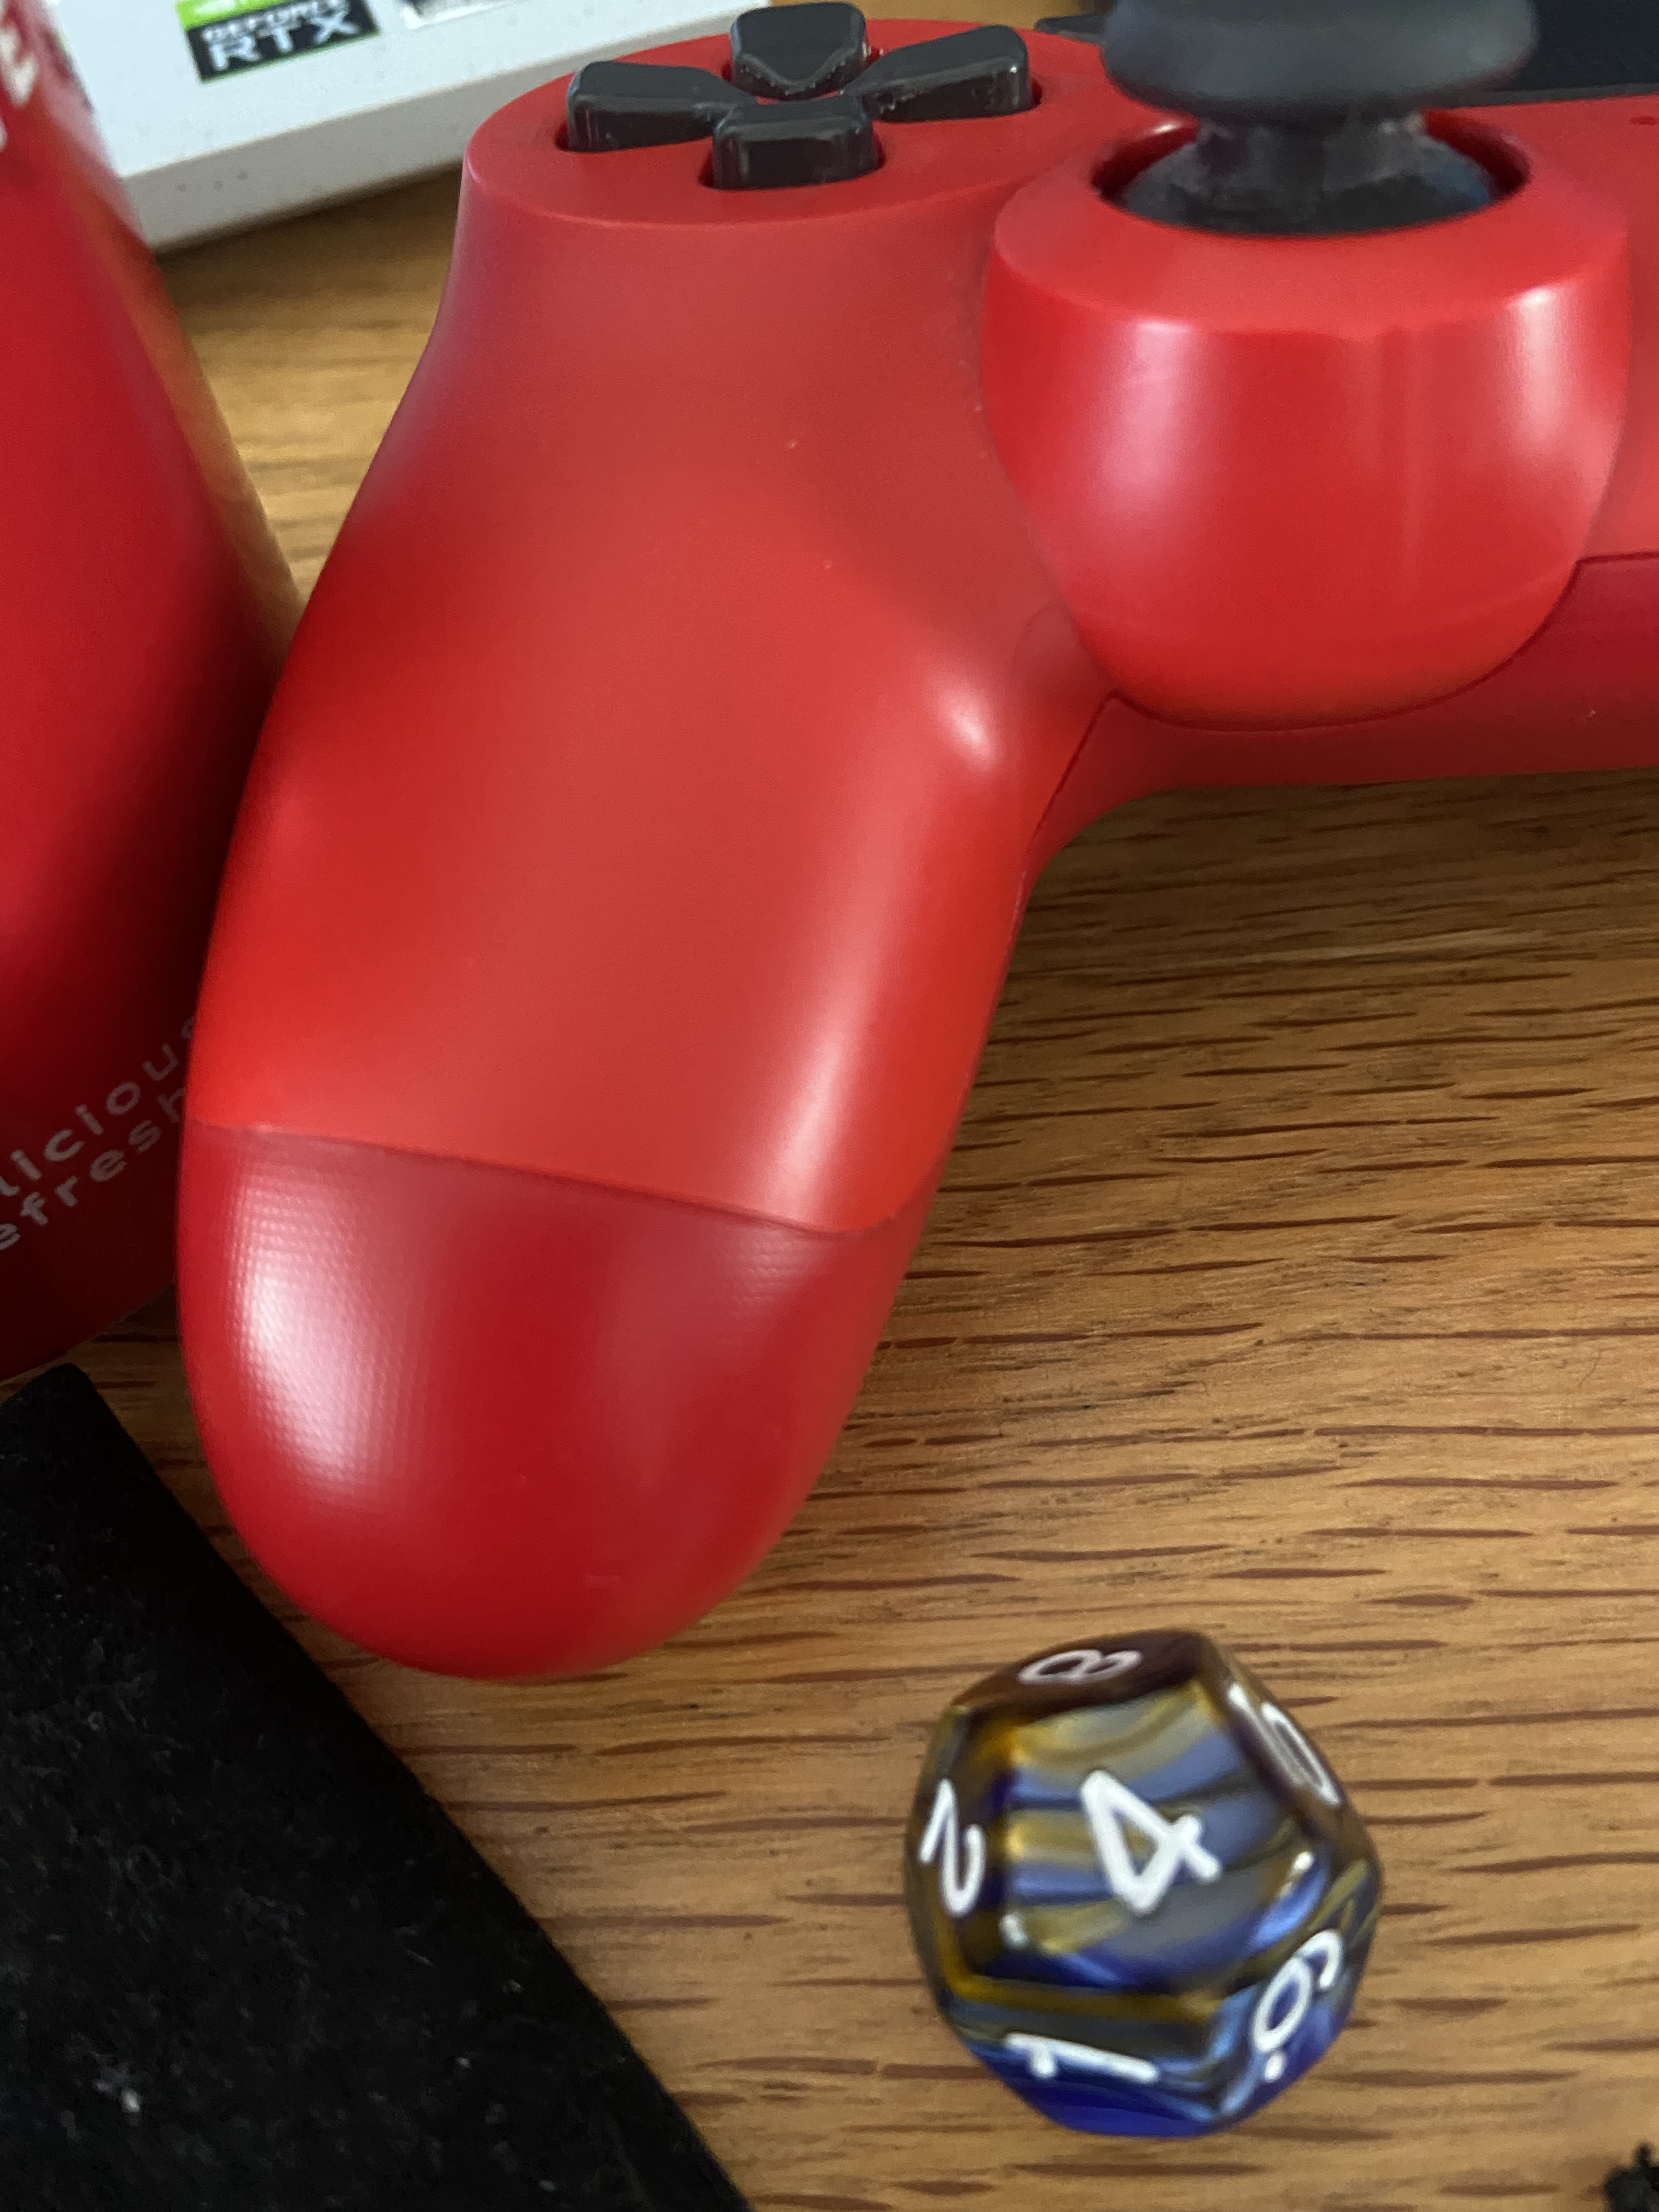four: (842, 1573, 1420, 2167)
